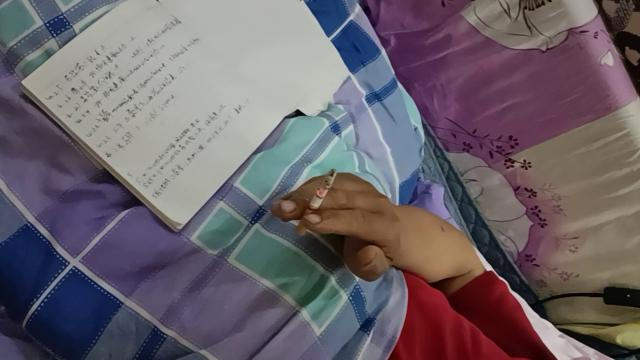Cigarette: (295, 168, 337, 236)
